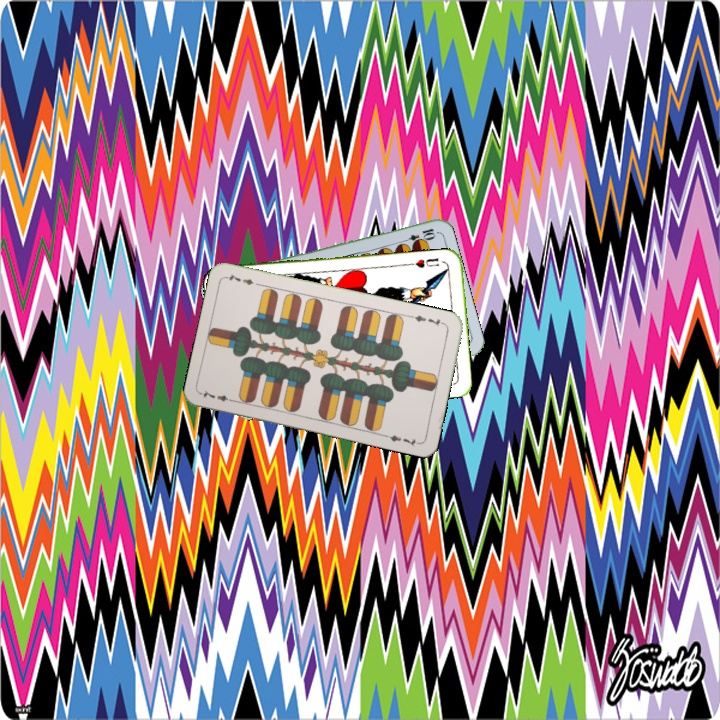E10: (398, 224, 438, 247)
E7: (198, 386, 238, 405), (408, 311, 448, 328)
HU: (411, 254, 441, 270)
